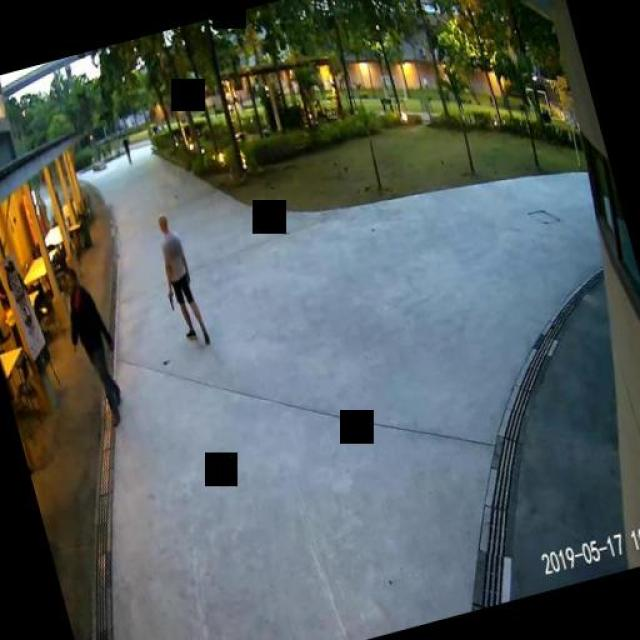gun: (165, 288, 175, 308)
